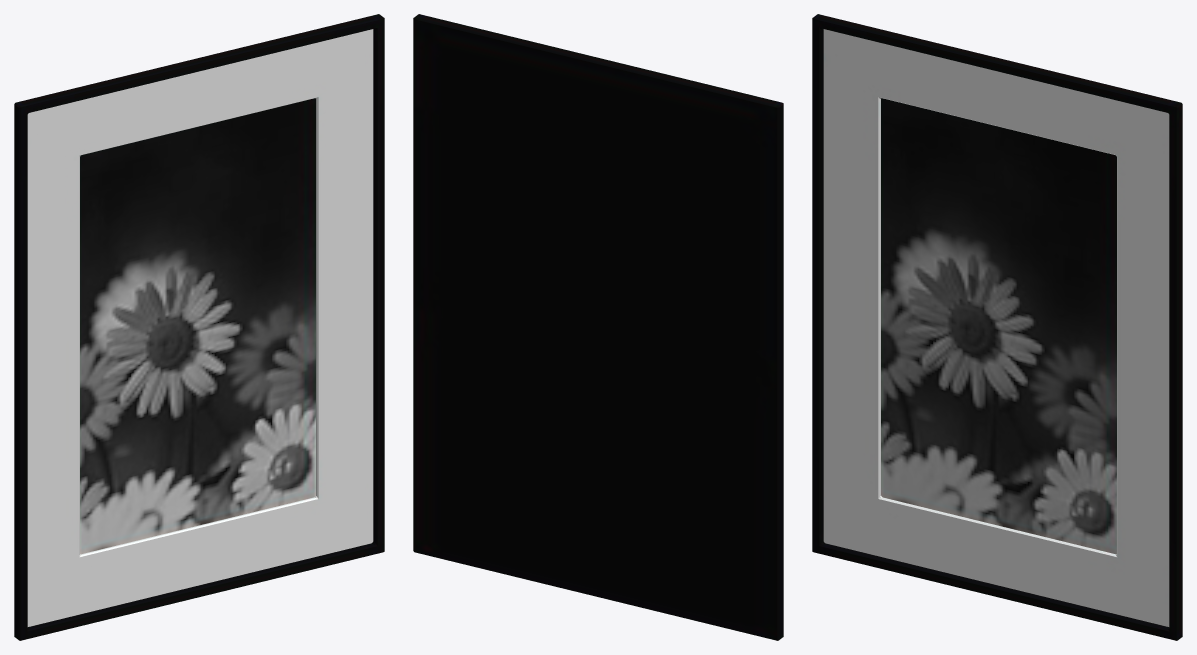
Rendered from quadri-2.glb.
The picture shows the model from 3 angles, left to right: view 1: azimuth 30°, elevation 25°; view 2: azimuth 150°, elevation 25°; view 3: azimuth 330°, elevation 25°; orthographic projection.
Parts seen in each view (by area): view 1: fiori; view 2: fiori; view 3: fiori.
Boxes of the visible parts, box(x1,y1,x2,y2) form: fiori: box(14, 14, 384, 640); fiori: box(413, 14, 783, 640); fiori: box(812, 14, 1182, 640).
Bounding box in the file's own units: 0.5715 × 0.7982 × 0.0159.
1 material, 1 textured.
